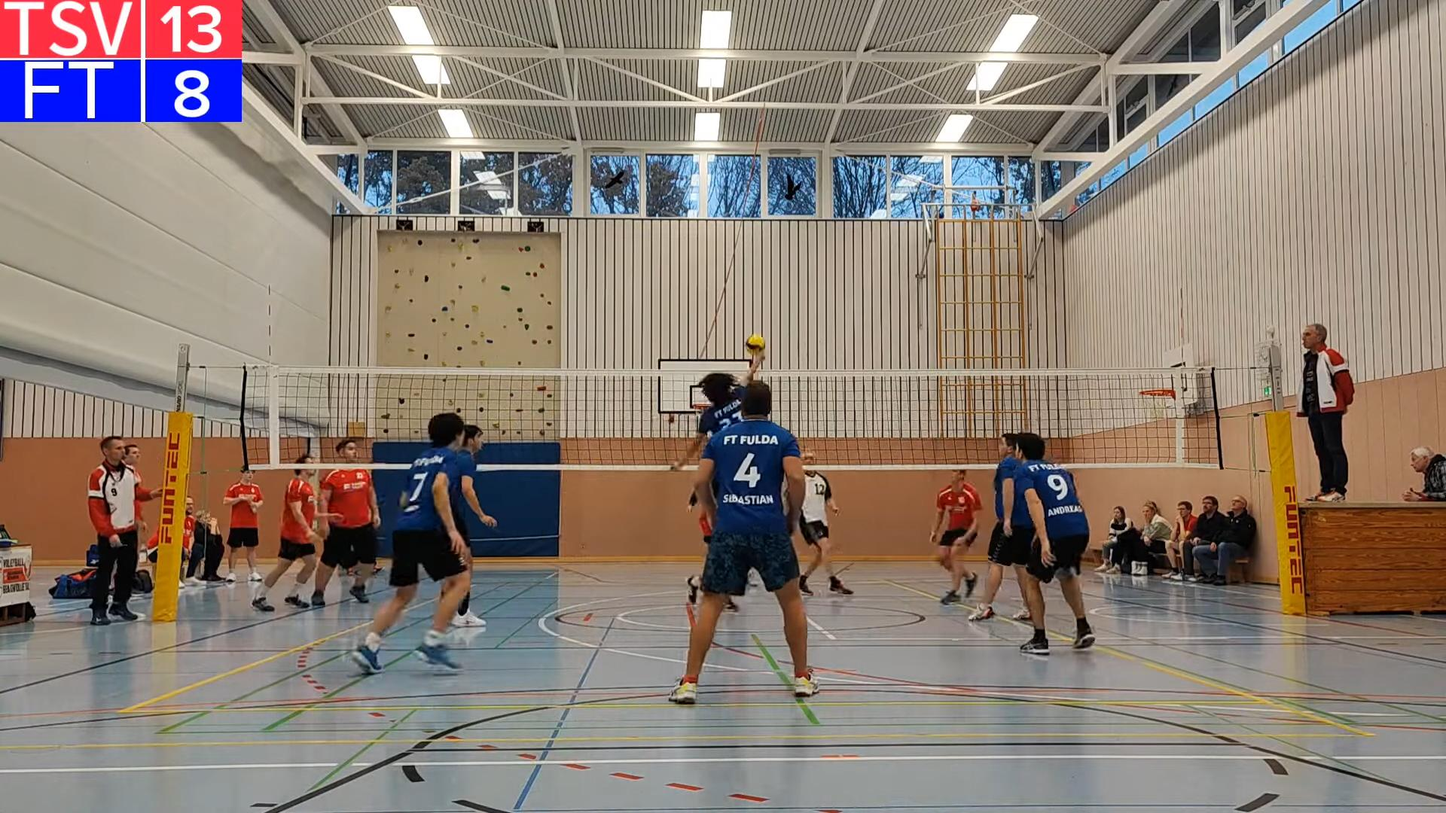Attack: (669, 345, 767, 487)
Block: (747, 333, 770, 356)
Player: (669, 382, 817, 703), (350, 413, 470, 673), (1014, 433, 1094, 654), (671, 352, 764, 470), (671, 351, 763, 470), (252, 453, 321, 611), (310, 468, 380, 606), (969, 433, 1017, 620), (798, 467, 853, 595), (930, 470, 981, 604), (453, 424, 496, 574)
